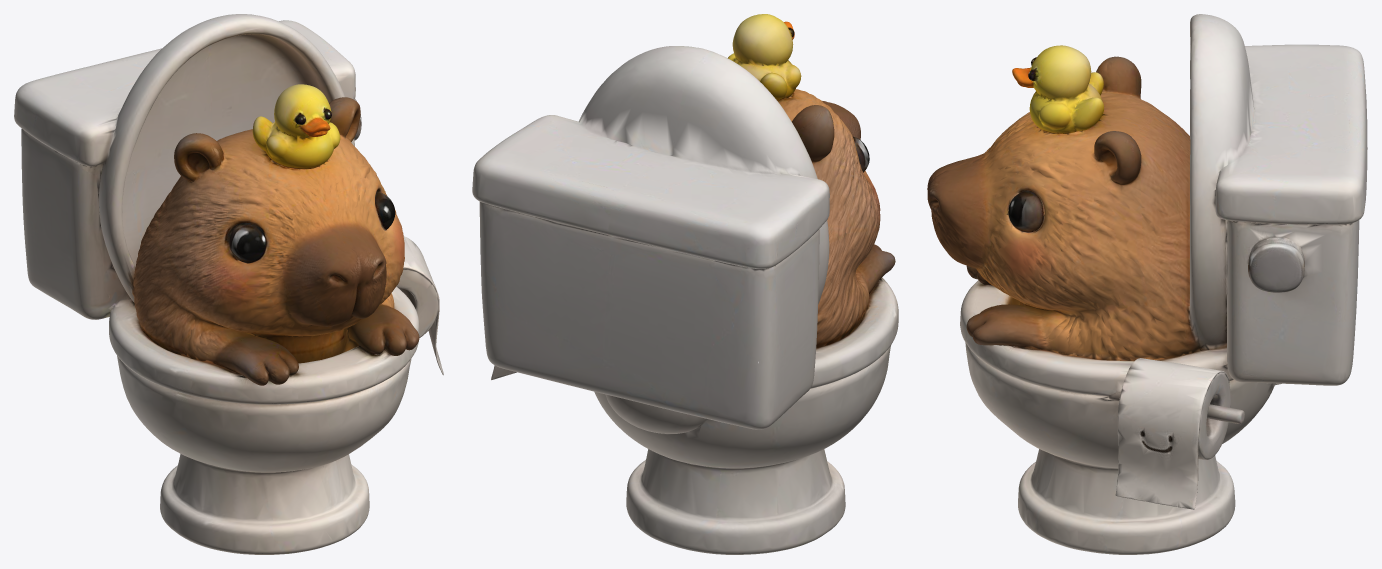
File: secret-capybara-toilet.glb
3 views of the same model, side by side, from view 1: azimuth 30°, elevation 25°; view 2: azimuth 150°, elevation 25°; view 3: azimuth 270°, elevation 25° (orthographic). The views are drawn at different scales.
Parts seen in each view (by area): view 1: tripo_node_c22ffabd-9979-444f-8701-5099ca8b1112; view 2: tripo_node_c22ffabd-9979-444f-8701-5099ca8b1112; view 3: tripo_node_c22ffabd-9979-444f-8701-5099ca8b1112.
Boxes of the visible parts, x1,y1,x2,y2 form: tripo_node_c22ffabd-9979-444f-8701-5099ca8b1112: (14, 14, 443, 554); tripo_node_c22ffabd-9979-444f-8701-5099ca8b1112: (472, 14, 898, 554); tripo_node_c22ffabd-9979-444f-8701-5099ca8b1112: (927, 14, 1367, 554).
Size of the model in its own units: 0.7581 by 0.979 by 0.8019.
Materials: 1 (1 with a texture image).
